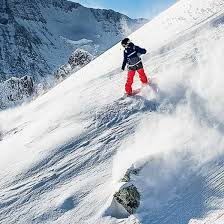snowboard: (114, 78, 155, 104)
